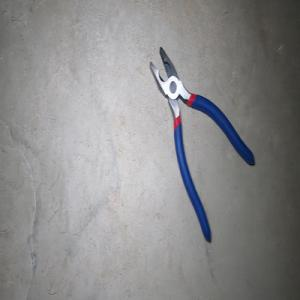Pliers: (148, 46, 255, 242)
